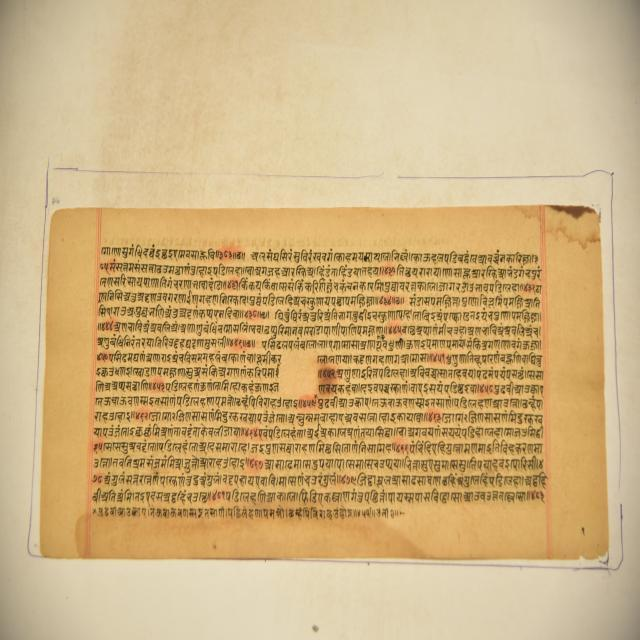text_paragraph: (37, 207, 607, 558)
